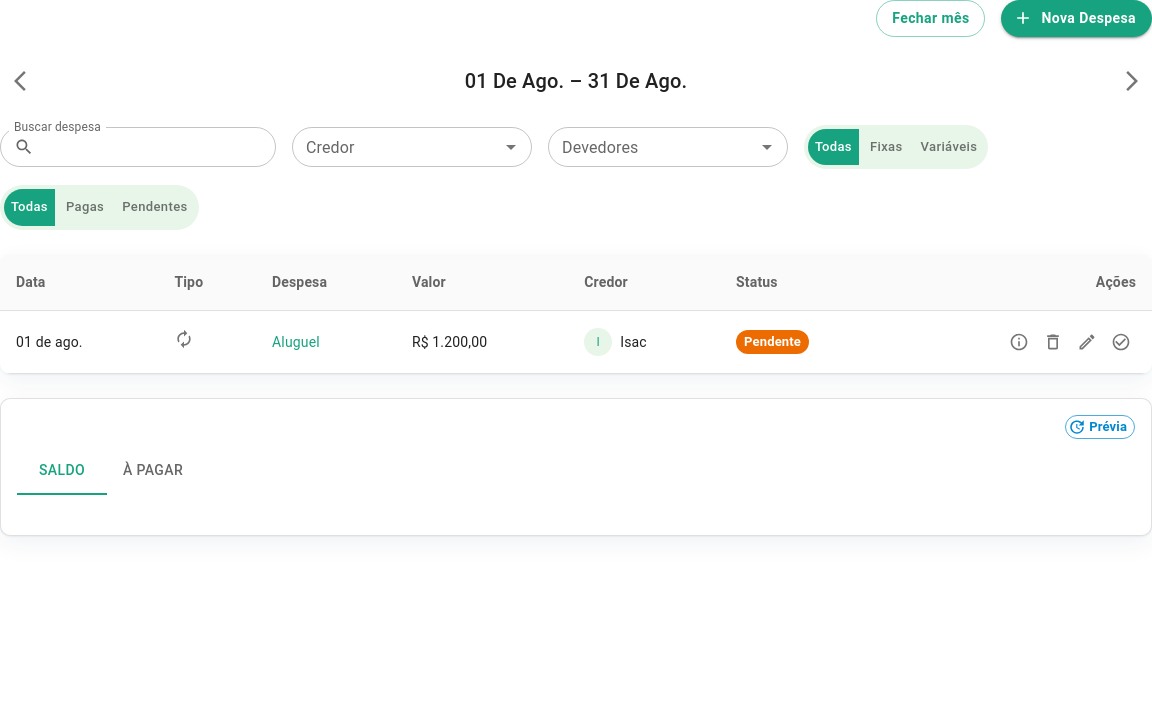
Test: ExpenseManager - remover despesa Fixa › shows the expense description in the confirmation dialog and a success toast after removing
Click the button named "Remover despesa fixa".
click(1053, 342)  # box [1038, 327, 1068, 357]
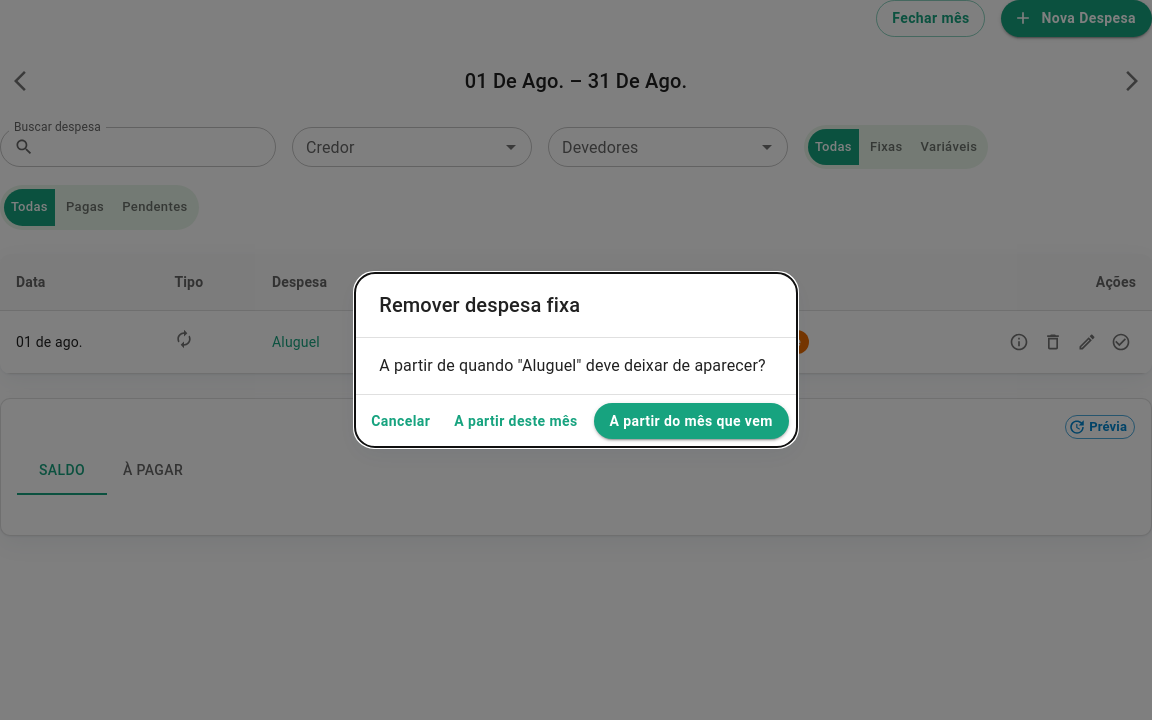
Expected: the text "\"Aluguel\" deve deixar de aparecer?" is shown, [379, 356, 766, 375]
Click the button "A partir deste mês".
click(516, 421)  # box [446, 403, 586, 439]
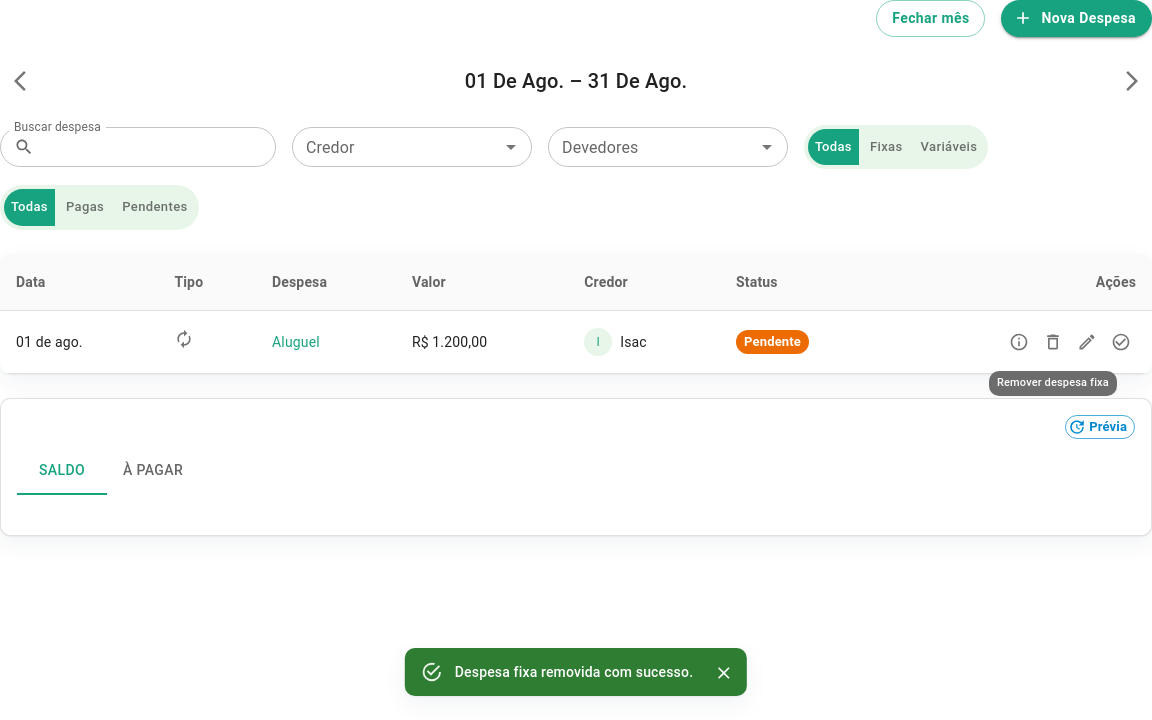
Expected: the text "Despesa fixa removida com sucesso." is shown, [455, 664, 693, 680]
